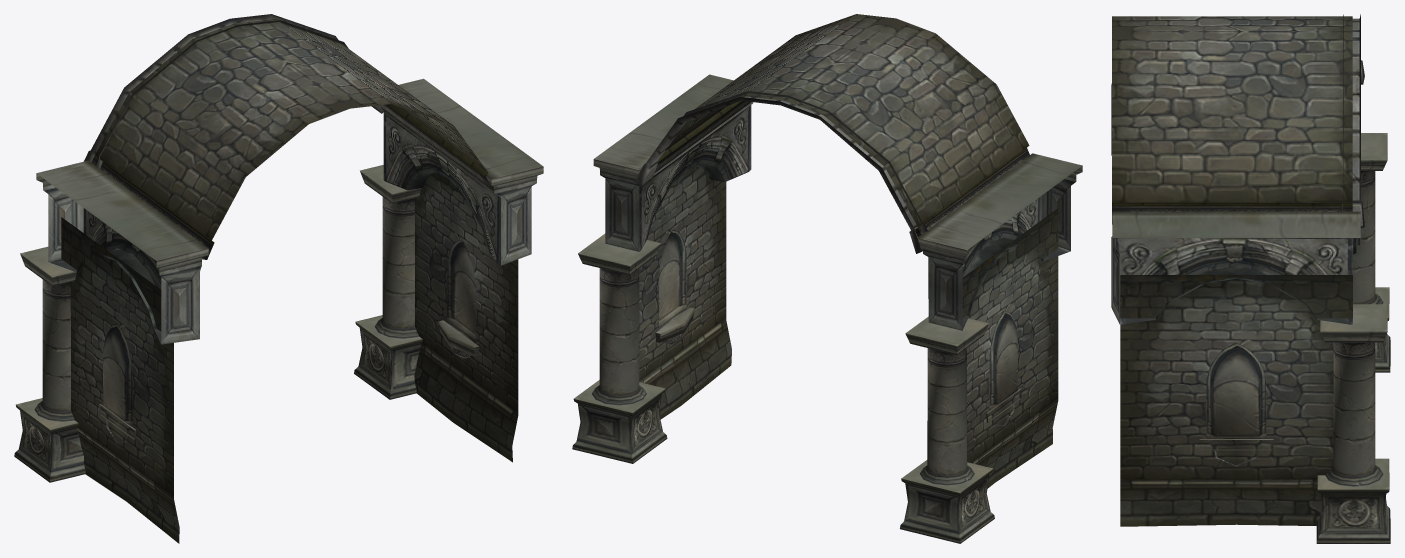
Rendered from DN_1_4_ldao02.FBX.
3 renders of one model, left to right at view 1: azimuth 30°, elevation 25°; view 2: azimuth 150°, elevation 25°; view 3: azimuth 270°, elevation 25°, orthographic. The views are drawn at different scales.
Visible parts, largest first — view 1: DN_1_4_ldao02; view 2: DN_1_4_ldao02; view 3: DN_1_4_ldao02.
Boxes of the visible parts, x1,y1,x2,y2 form: DN_1_4_ldao02: (14, 14, 543, 543); DN_1_4_ldao02: (572, 14, 1082, 543); DN_1_4_ldao02: (1111, 14, 1390, 543).
Bounding box in the file's own units: 938 × 889 × 544.
